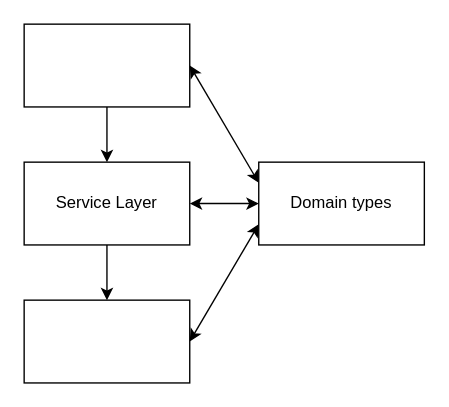
The diagram is 449 pixels wide and 407 high, and some of its shapes have lost their labels. The box of each missing label's shape, as (x1, y1, x2, y2) in pixels:
Data Access Layer: (23, 299, 190, 383)
Presentation Layer: (23, 23, 190, 107)
